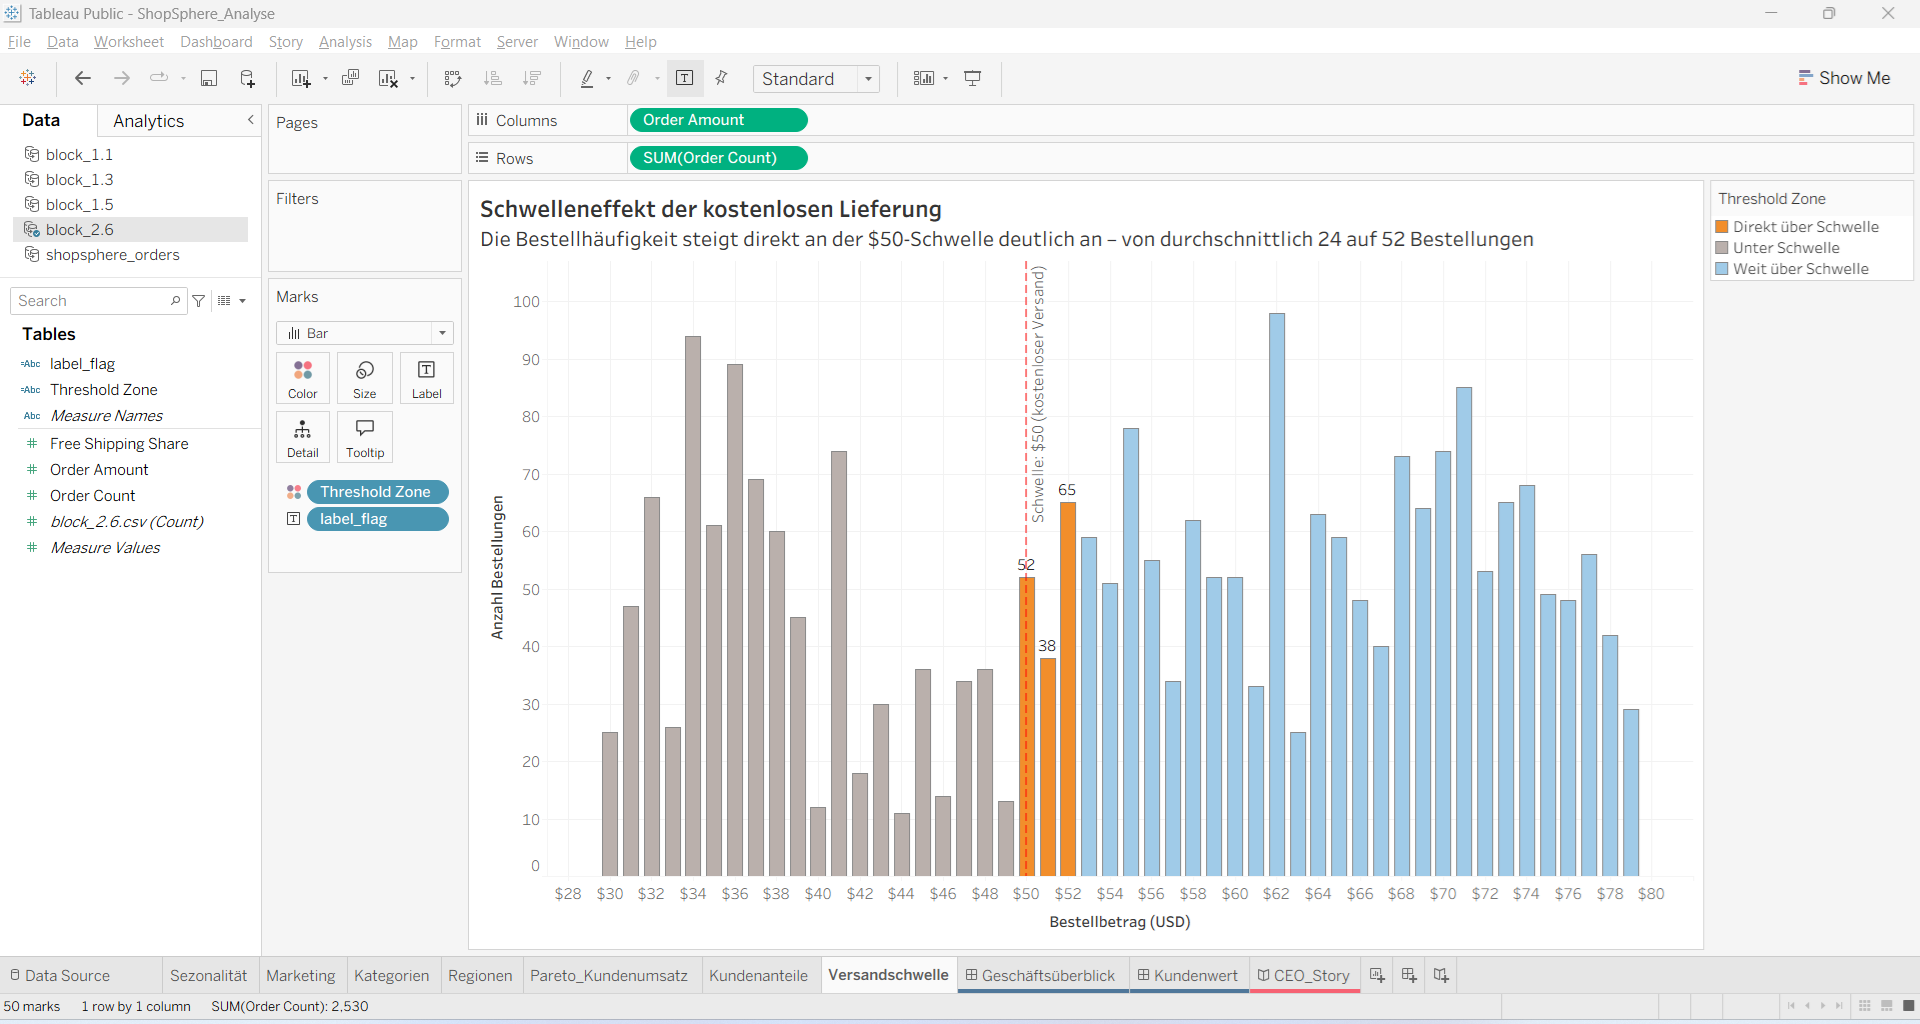

This screenshot's page, from the dashboard's own definition file:
{"tool":"tableau","page":{"name":"Versand","canvas":[1366,768],"ordinal":3},"visuals":[{"type":"text","box":[1,1,771,88]},{"type":"text","box":[772,1,300,88]},{"type":"text","box":[1072,1,293,88]},{"type":"worksheet","title":"Versandschwelle","mark":"Bar","rows":["order_count"],"cols":["order_amount"],"box":[0,90,1073,678]},{"type":"text","box":[1073,90,293,496]},{"type":"legend","title":"Versandschwelle","param":"[federated.0ewsjo50np6qpo14ej78j15zprhh].[none:Calculation_0828505806807063:nk]","box":[1073,586,293,182]}]}

Visuals, with their boxes on the page's 1366x768 design canvas (x1, y1, x2, y2). These are canvas units, not pixel positions in the 1920x1024 screenshot, which may show the page scaled, cropped or inside an application window:
text: (left=1, top=1, right=772, bottom=89)
text: (left=772, top=1, right=1072, bottom=89)
text: (left=1072, top=1, right=1365, bottom=89)
"Versandschwelle" worksheet (Bar marks): (left=0, top=90, right=1073, bottom=768)
text: (left=1073, top=90, right=1366, bottom=586)
"Versandschwelle" legend: (left=1073, top=586, right=1366, bottom=768)
